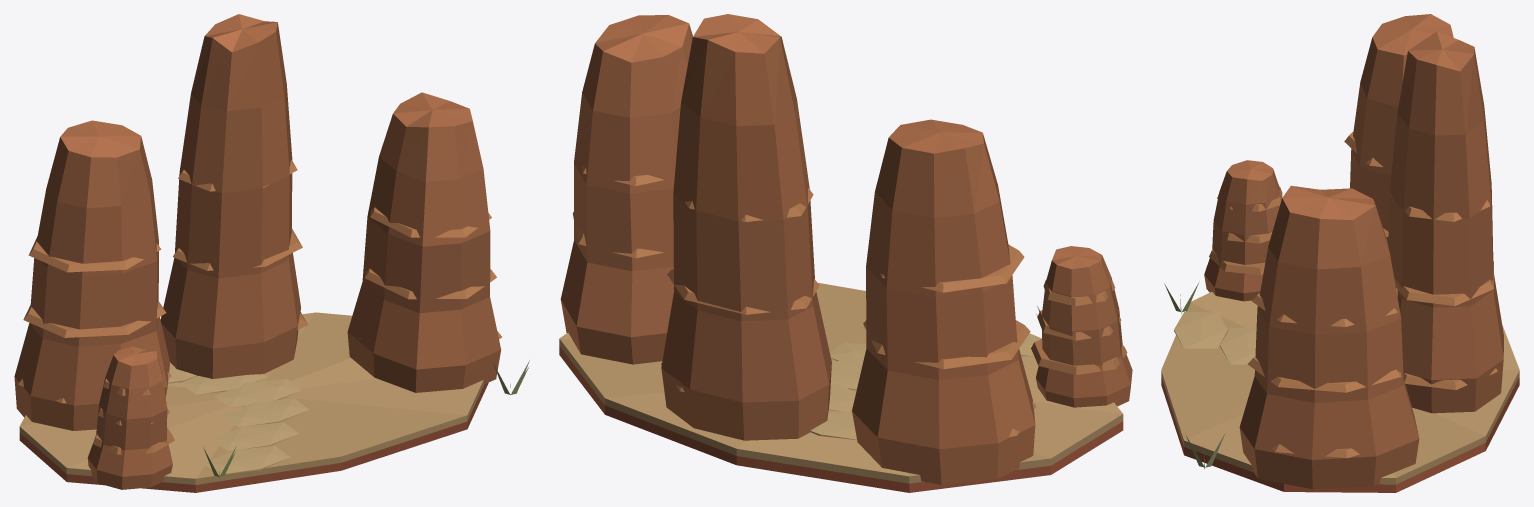
3 views of the same model, side by side, from view 1: azimuth 30°, elevation 25°; view 2: azimuth 150°, elevation 25°; view 3: azimuth 270°, elevation 25° (orthographic). The views are drawn at different scales.
Parts seen in each view (by area): view 1: S11_红岩峡谷; view 2: S11_红岩峡谷; view 3: S11_红岩峡谷.
Boxes of the visible parts, x1=… form: S11_红岩峡谷: x1=14, y1=14, x2=529, y2=492; S11_红岩峡谷: x1=559, y1=14, x2=1132, y2=492; S11_红岩峡谷: x1=1161, y1=14, x2=1519, y2=492.
Size of the model in its own units: 5.27 by 3.81 by 3.49.
